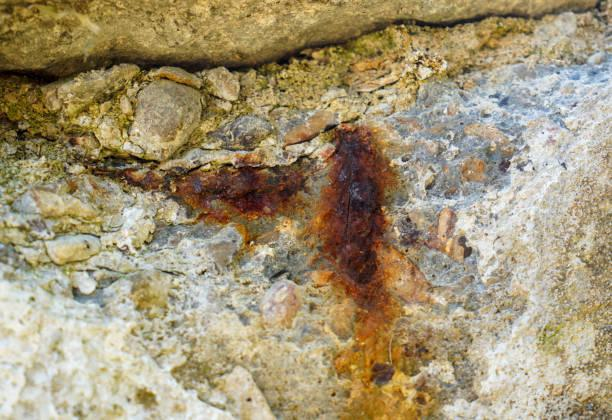Corrosion: (315, 125, 440, 420), (76, 155, 307, 223)
Crack: (1, 2, 599, 85)
Exposed reinforcement: (342, 178, 379, 287)
Spalling: (1, 11, 612, 156), (1, 173, 158, 296)
